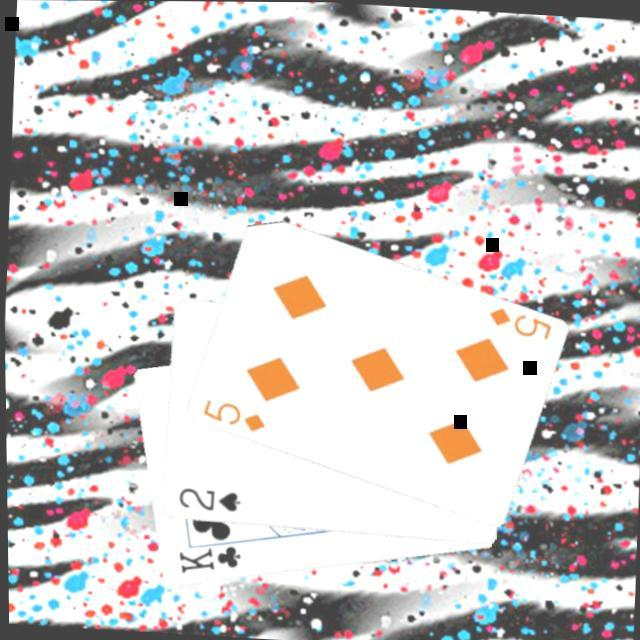2S: (174, 482, 243, 515)
5D: (197, 394, 269, 434), (483, 301, 555, 341)
KC: (173, 530, 248, 579)
